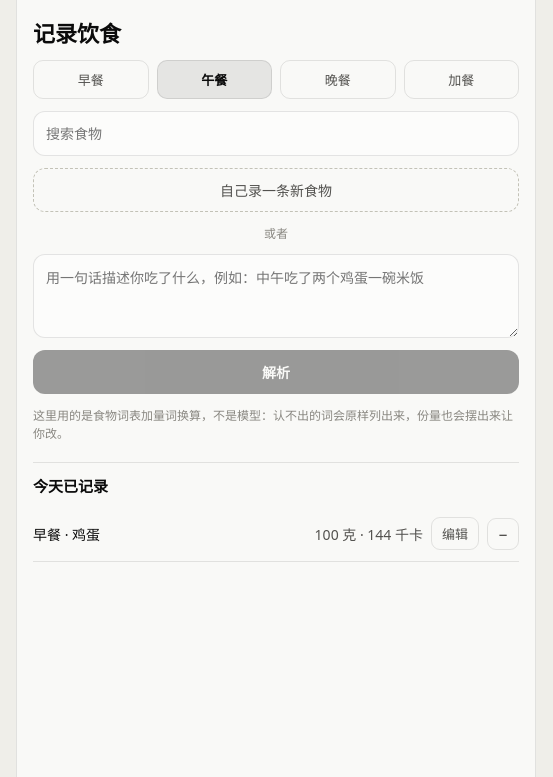
添加饮食页 › 取消修改退出编辑态，表单回到新记一餐
Click the button with aria-label "编辑鸡蛋": coordinates (455, 534) [431,517,479,550]
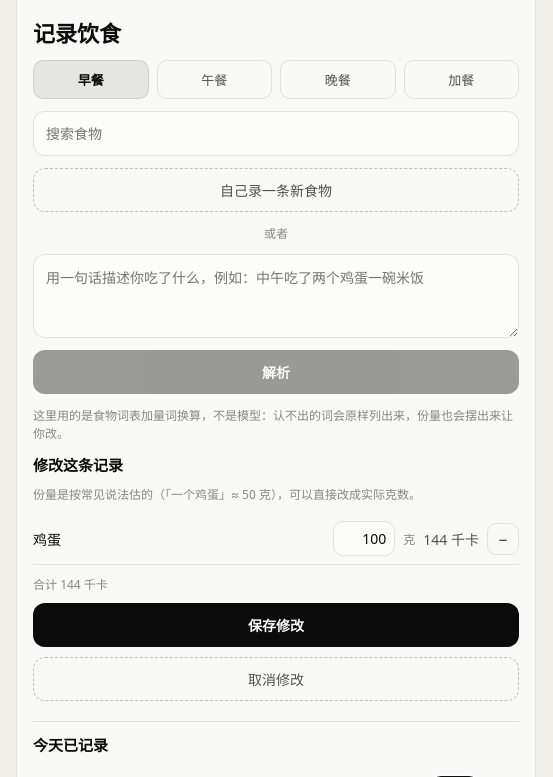
Click the button "取消修改": coordinates (276, 679) [33,657,519,701]
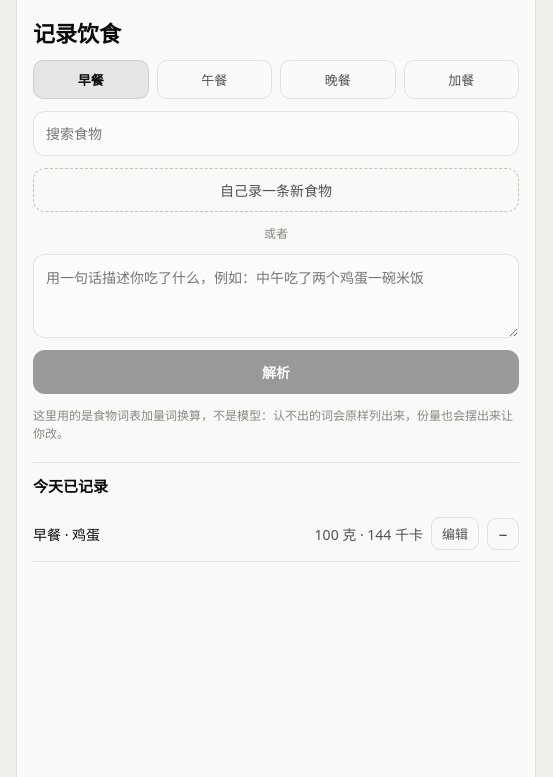
Expected: the heading "修改这条记录" is gone
